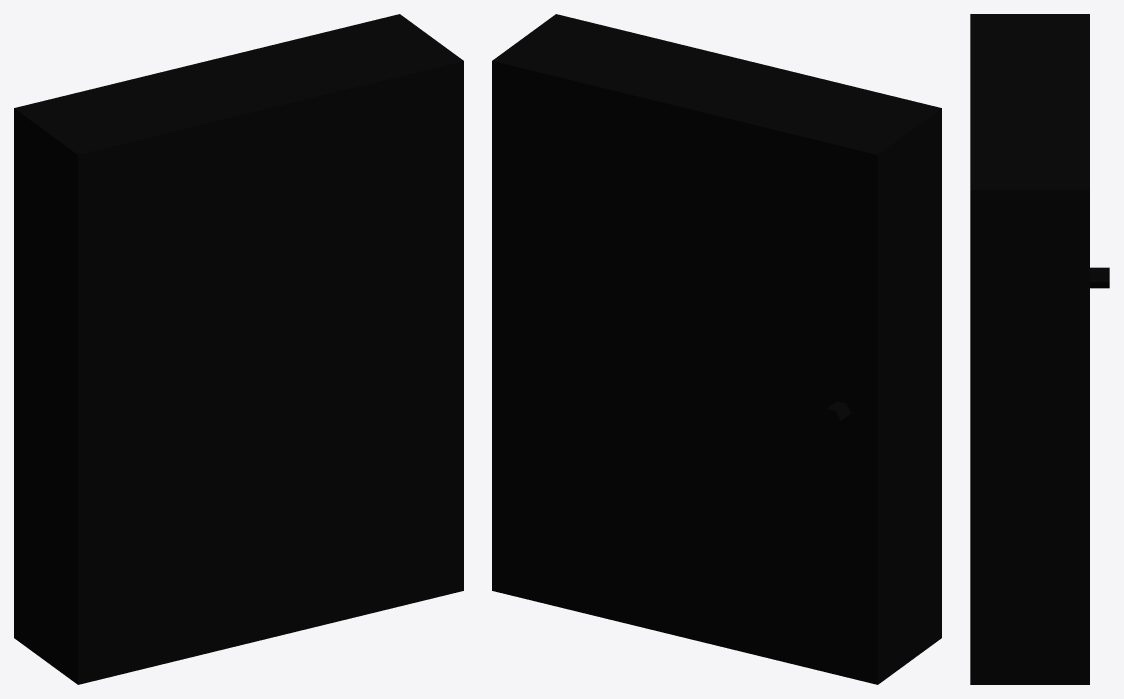
Rendered from SM_key_cabinet.fbx.
3 renders of one model, left to right at view 1: azimuth 30°, elevation 25°; view 2: azimuth 150°, elevation 25°; view 3: azimuth 270°, elevation 25°, orthographic. The views are drawn at different scales.
Visible parts, largest first — view 1: key_cabinet, key_cabinet_door; view 2: key_cabinet_door, key_cabinet; view 3: key_cabinet, key_cabinet_door.
Part boxes in pixels (x1,y1,x2,y2): key_cabinet: [22, 20, 463, 684]; key_cabinet_door: [14, 14, 407, 643]; key_cabinet_door: [492, 55, 886, 684]; key_cabinet: [500, 14, 941, 678]; key_cabinet: [970, 14, 1074, 684]; key_cabinet_door: [1074, 14, 1109, 684].
Size of the model in its own units: 0.32 by 0.42 by 0.107.
